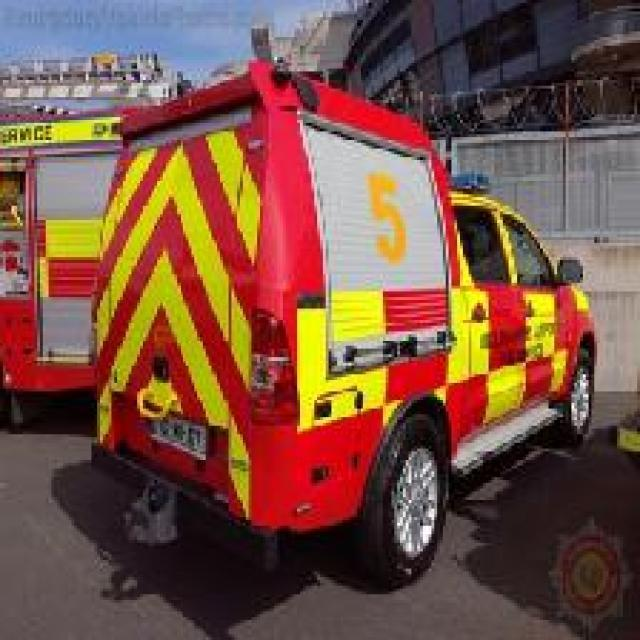emergency: (85, 54, 599, 592)
